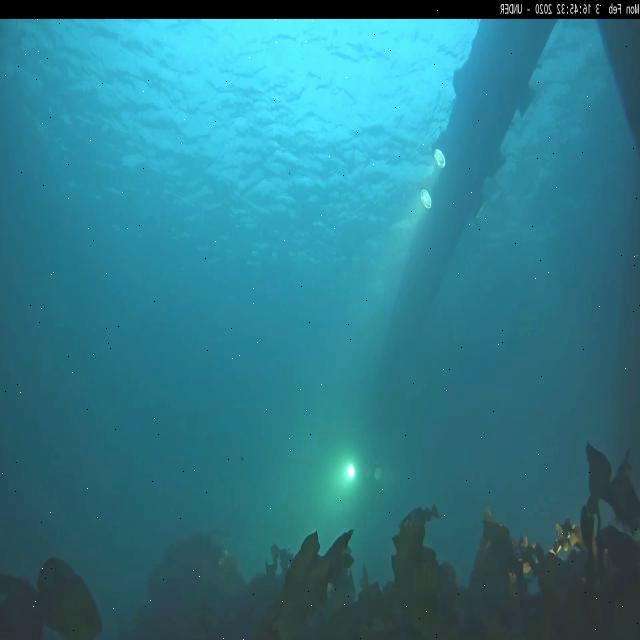fish: (396, 502, 439, 532)
